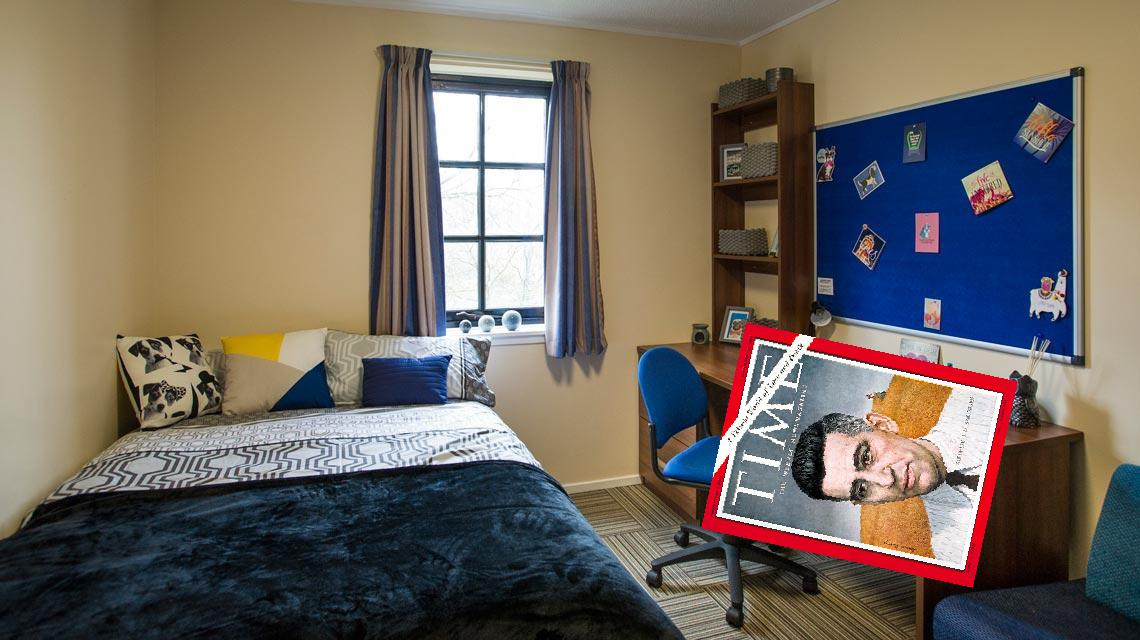times: (697, 321, 1020, 588)
